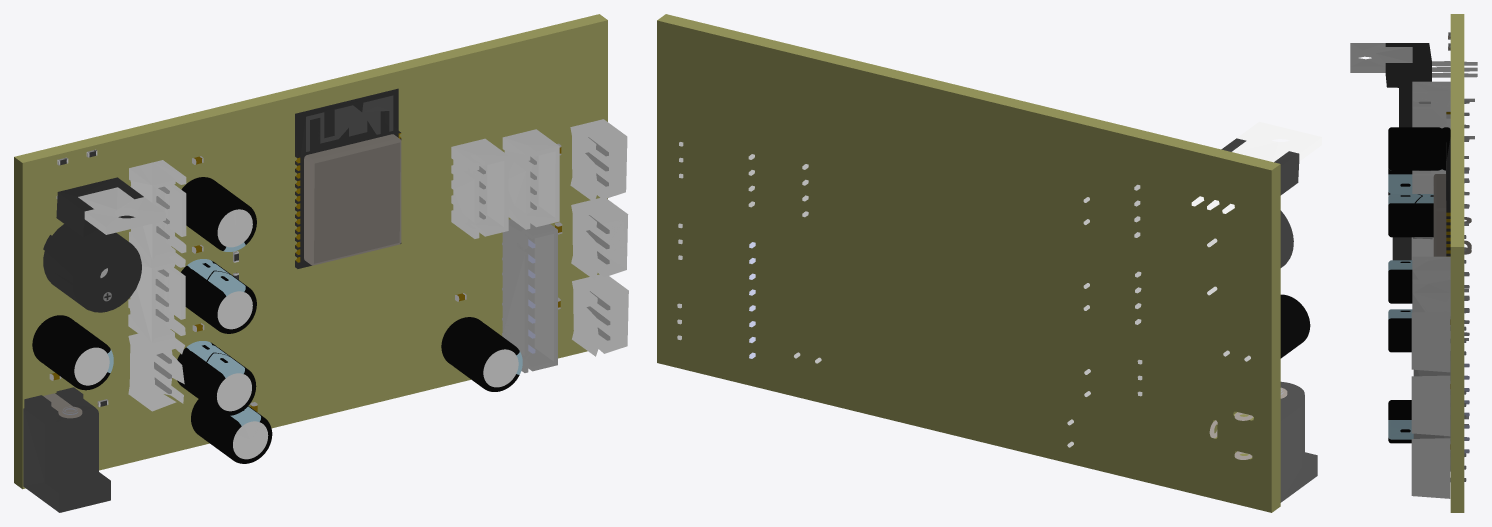
Rendered from OBJ_PCB_IOT-V2.obj.
3 views of the same model, side by side, from view 1: azimuth 30°, elevation 25°; view 2: azimuth 150°, elevation 25°; view 3: azimuth 270°, elevation 25° (orthographic). The views are drawn at different scales.
Bounding box in the file's own units: 401 × 213 × 92.59.
